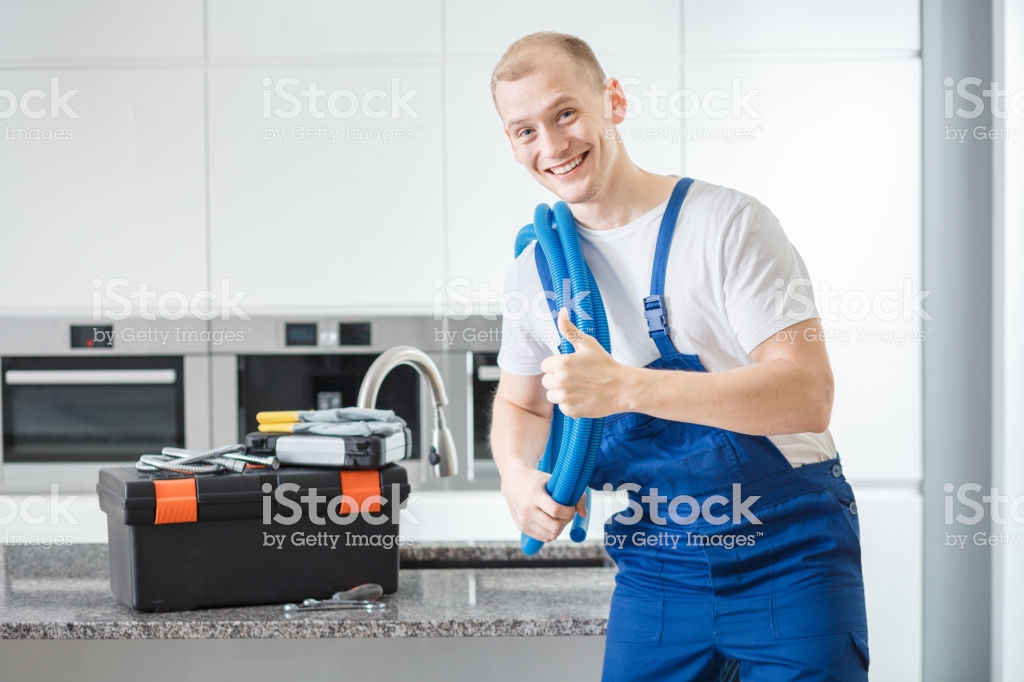thumbsup: (537, 306, 612, 422)
